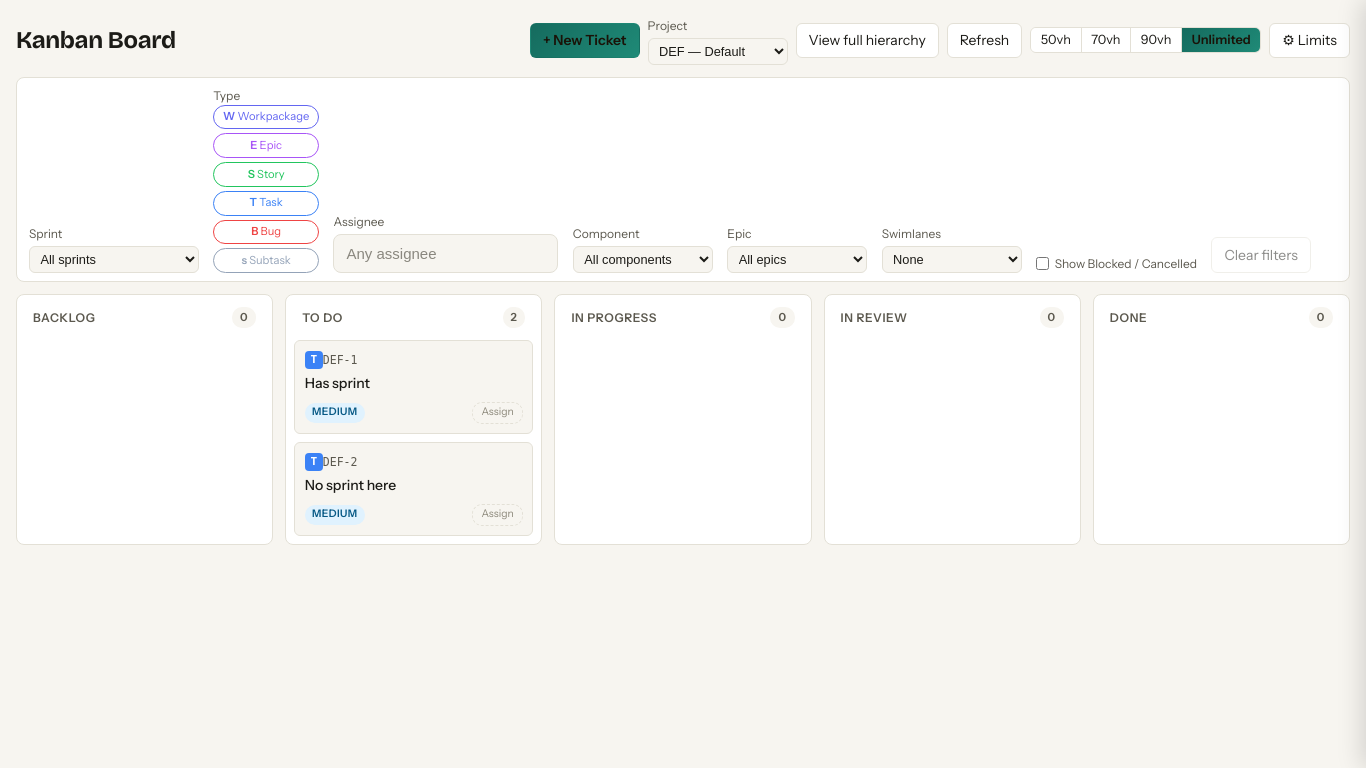
Test case: Kanban V5b filter sentinels (client-side) › sprint "All sprints" restores all tickets
Expected: the text "Has sprint" is shown, [305,374,370,392]
Select "No sprint (backlog only)" in the dropdown named "Filter by sprint" at (114, 260), box [29,246,199,273]
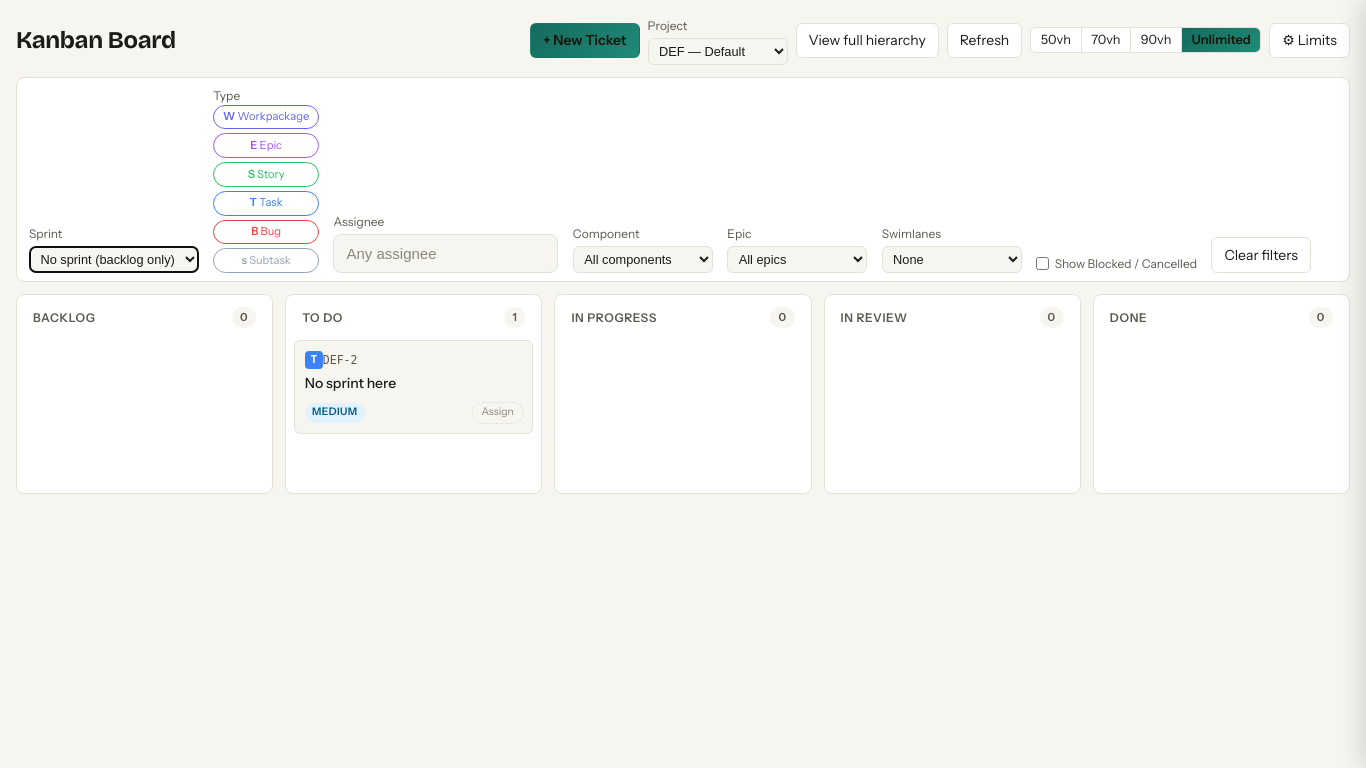
Select "All sprints" in the dropdown named "Filter by sprint" at (114, 260), box [29,246,199,273]
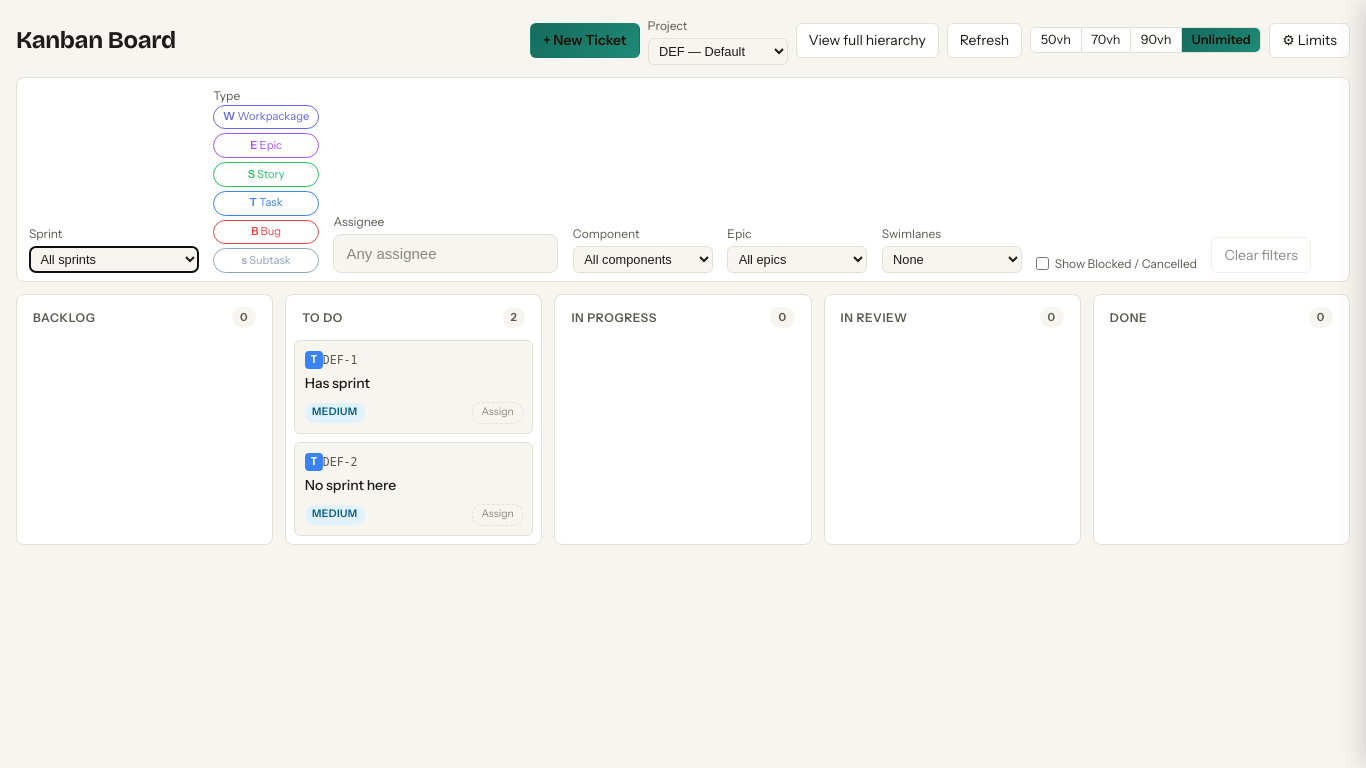
Expected: the text "No sprint here" is shown, [305,476,396,494]
Now the text "Has sprint" is shown, box [305,374,370,392]
